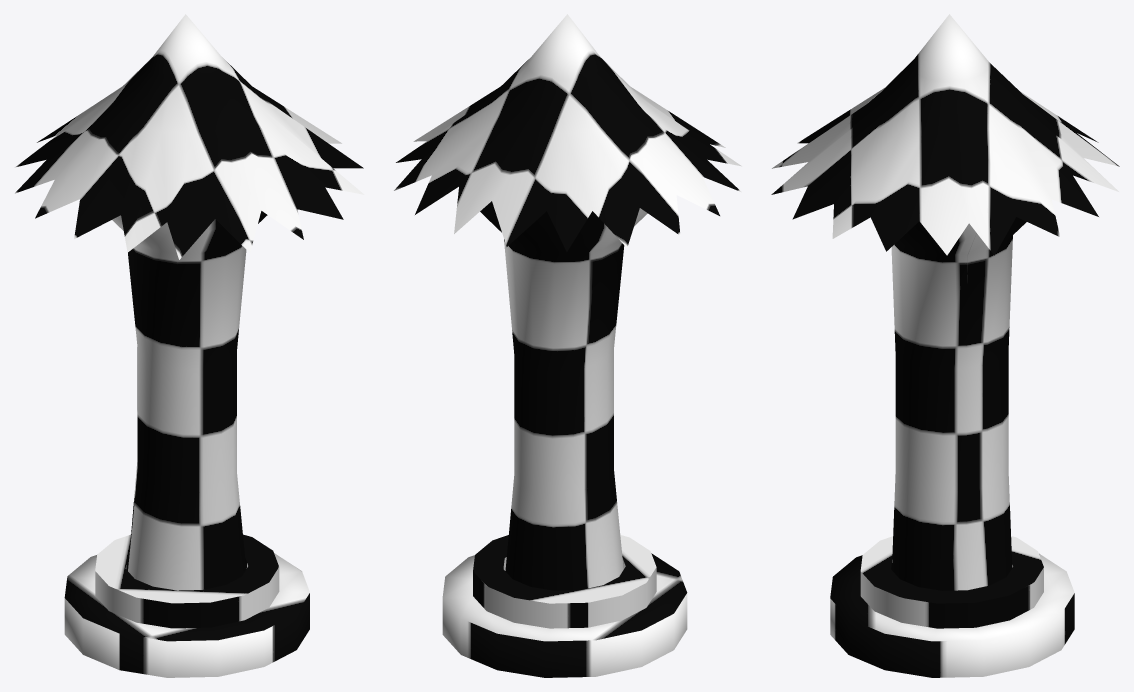
The model's file is tower.obj.
The picture shows the model from 3 angles, left to right: view 1: azimuth 30°, elevation 25°; view 2: azimuth 150°, elevation 25°; view 3: azimuth 270°, elevation 25°; orthographic projection.
Visible parts, largest first — view 1: Cone001; view 2: Cone001; view 3: Cone001.
Boxes of the visible parts, box(x1,y1,x2,y2) form: Cone001: box(15, 14, 364, 677); Cone001: box(394, 14, 741, 677); Cone001: box(771, 14, 1119, 677).
Size of the model in its own units: 7211 by 13735 by 7102.
